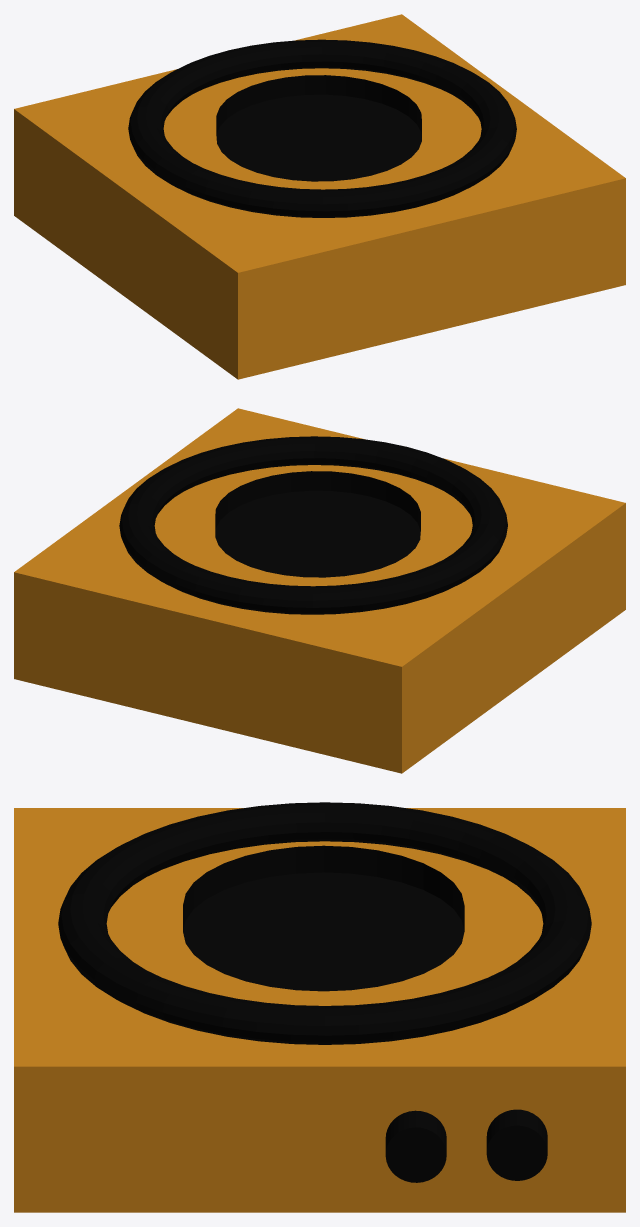
Rendered from estufa.fbx.
3 renders of one model, top to bottom at view 1: azimuth 30°, elevation 25°; view 2: azimuth 150°, elevation 25°; view 3: azimuth 270°, elevation 25°, orthographic. The views are drawn at different scales.
Visible parts, largest first — view 1: Cylinder.001; view 2: Cylinder.001; view 3: Cylinder.001.
Part boxes in pixels (bbox=[...]): Cylinder.001: bbox=[14, 14, 625, 379]; Cylinder.001: bbox=[14, 408, 625, 773]; Cylinder.001: bbox=[14, 802, 625, 1212].
Bounding box in the file's own units: 107 × 32.32 × 100.
